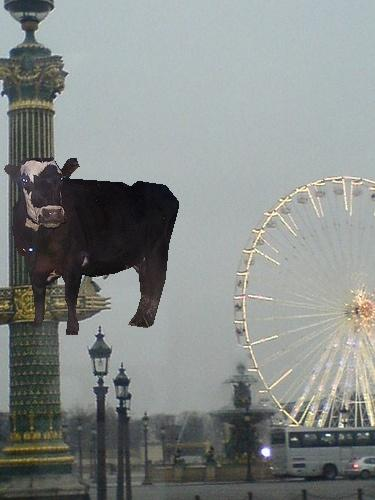tampered: (5, 158, 179, 335)
